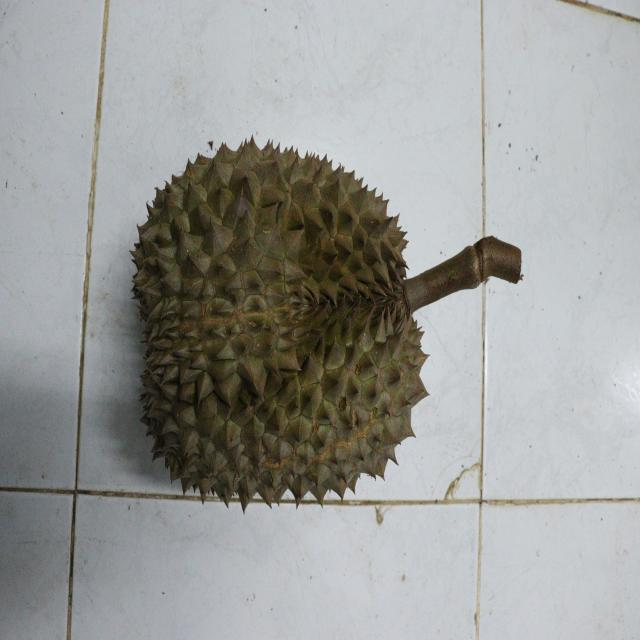immature: (125, 128, 431, 519)
